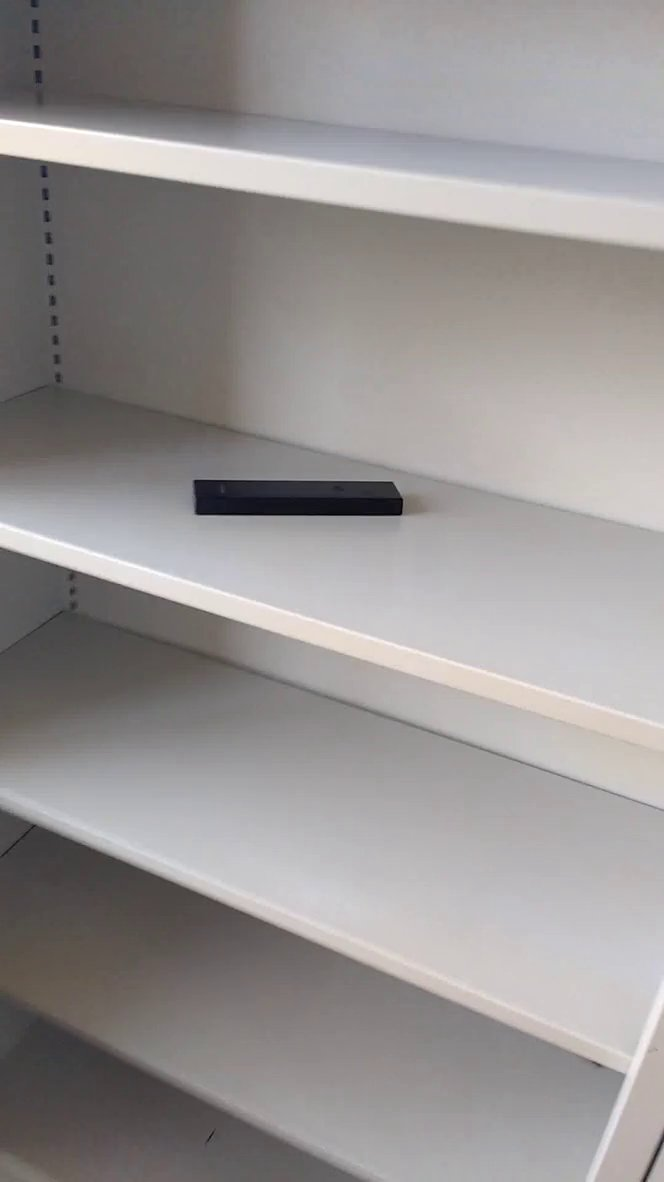remote: (186, 469, 427, 533)
